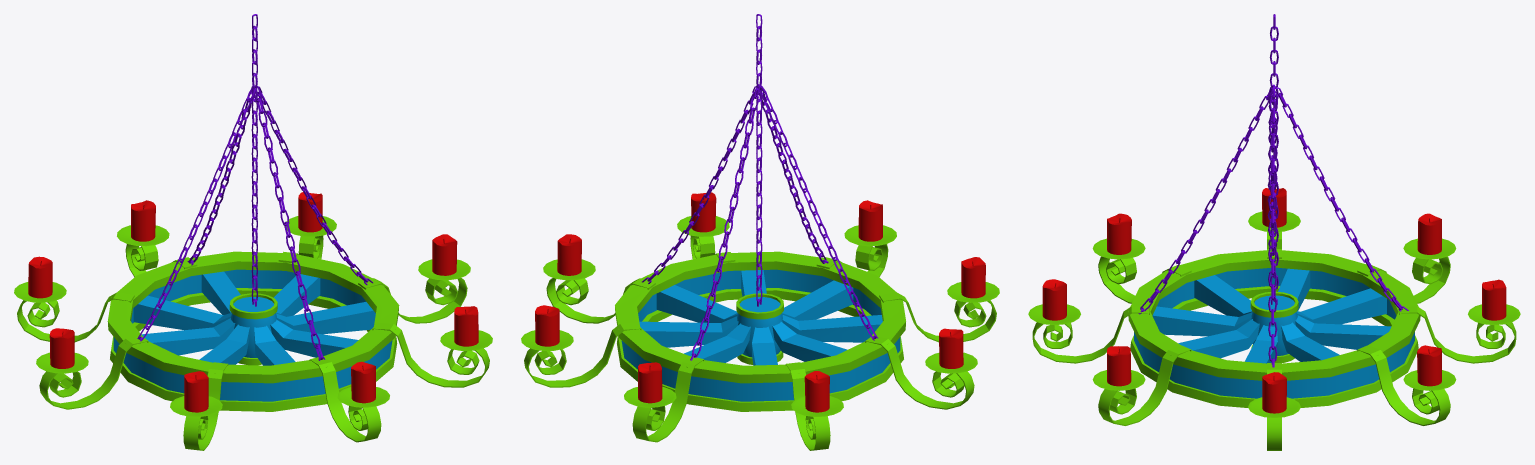
The model's file is SM_chandelier.fbx.
3 renders of one model, left to right at view 1: azimuth 30°, elevation 25°; view 2: azimuth 150°, elevation 25°; view 3: azimuth 270°, elevation 25°, orthographic.
Visible parts, largest first — view 1: Cylinder.014; view 2: Cylinder.014; view 3: Cylinder.014.
Boxes of the visible parts, box(x1,y1,x2,y2) form: Cylinder.014: box(14, 14, 492, 450); Cylinder.014: box(521, 14, 999, 450); Cylinder.014: box(1028, 14, 1520, 450).
Bounding box in the file's own units: 335 × 261 × 335.
